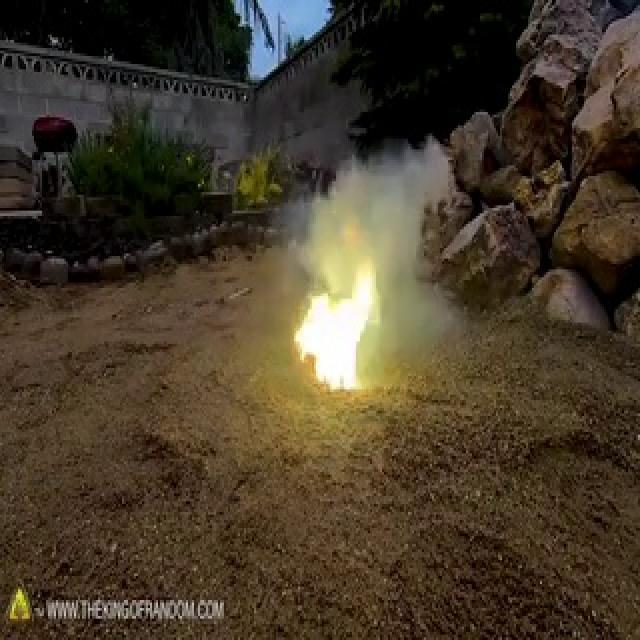fire: (278, 235, 358, 398)
